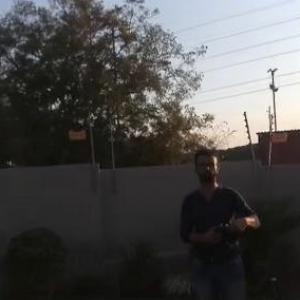follow: (174, 145, 265, 299)
